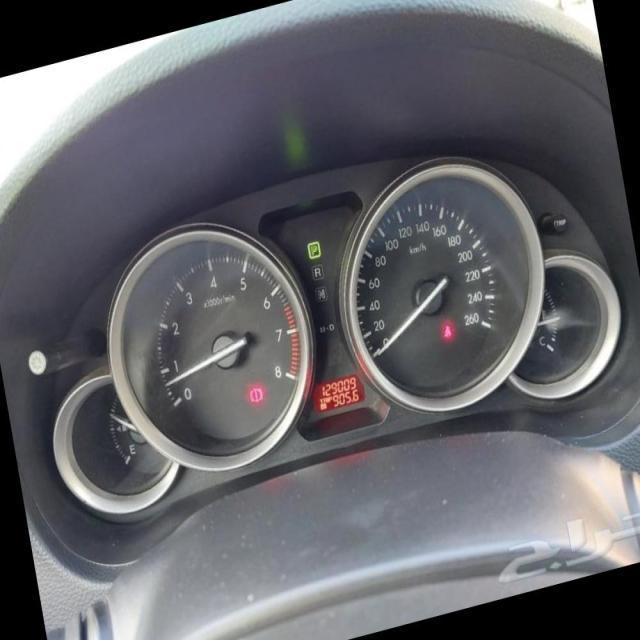Seat Belt: (442, 324, 453, 341)
